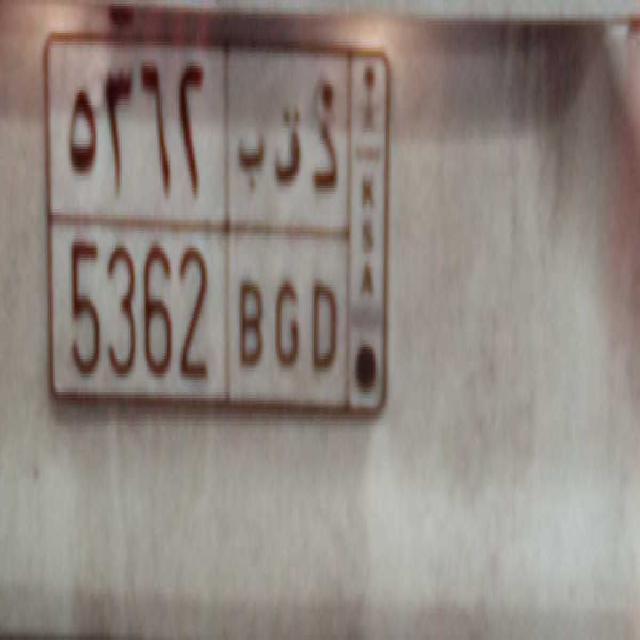license_plate: (48, 214, 349, 432)
